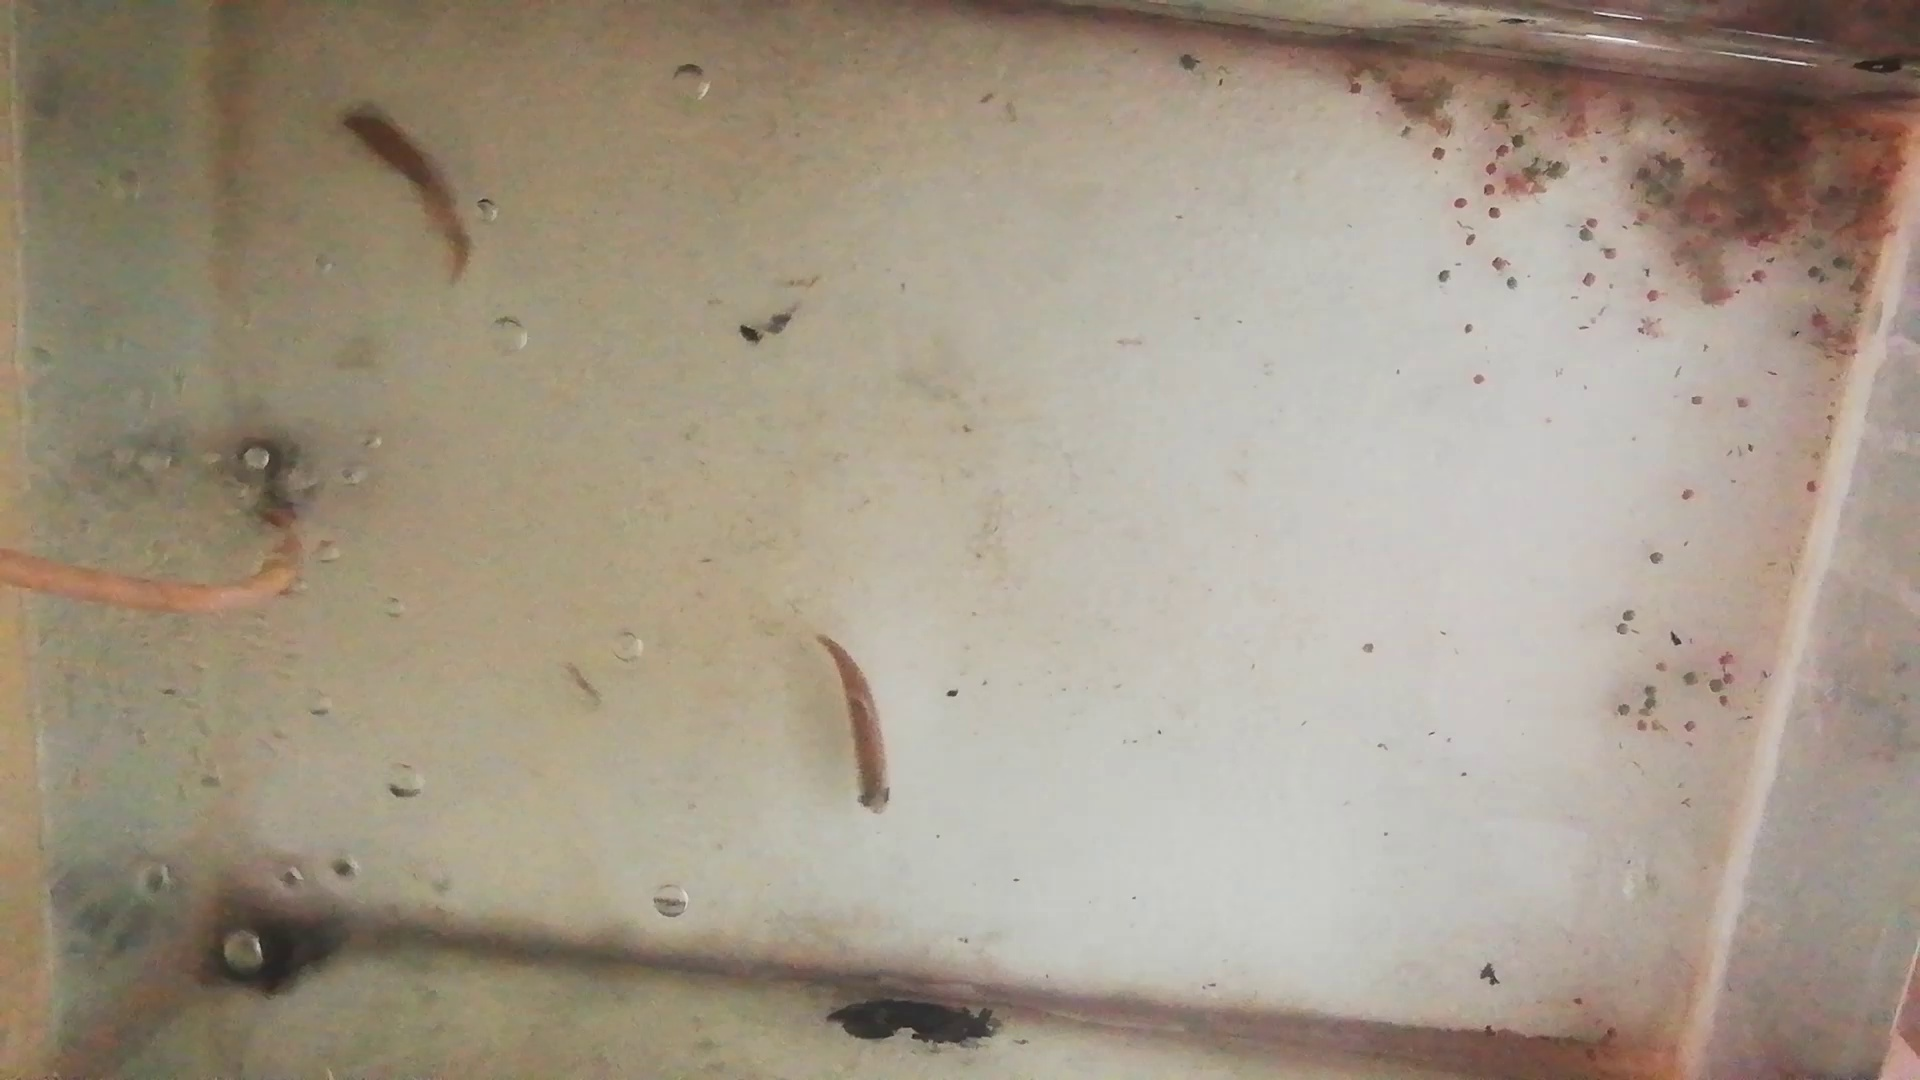fish: (334, 102, 473, 285), (810, 632, 901, 818)
